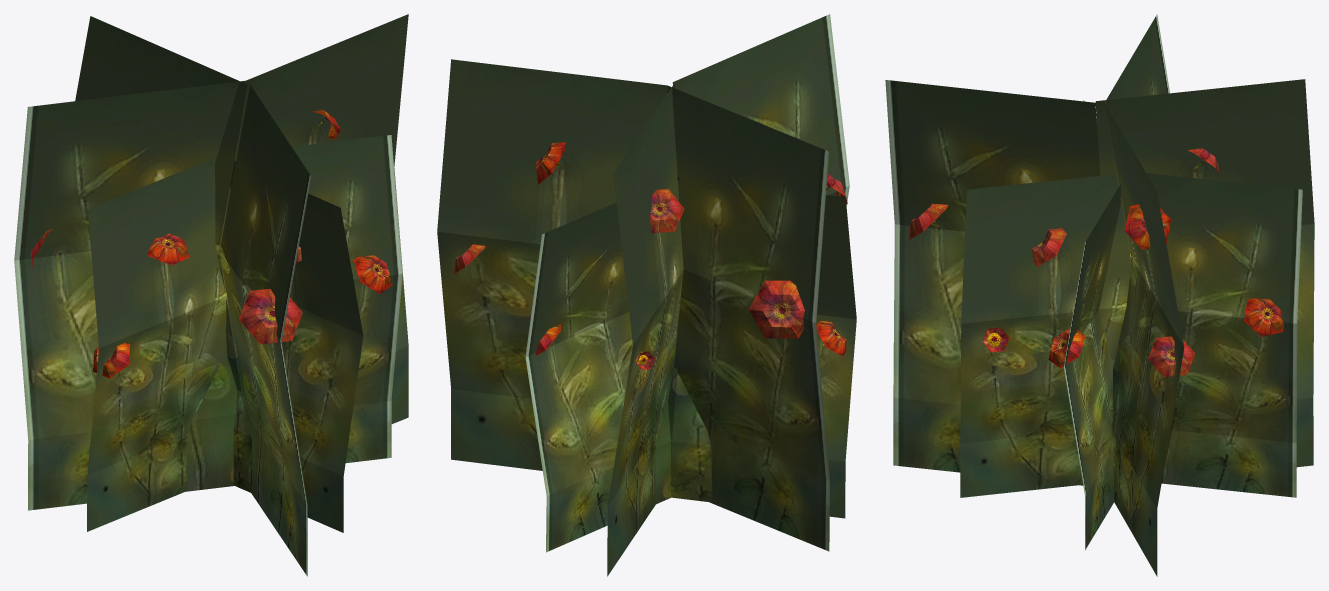
Rendered from bg_anh_foliage_te_f01_sm_old.FBX.
The picture shows the model from 3 angles, left to right: view 1: azimuth 30°, elevation 25°; view 2: azimuth 150°, elevation 25°; view 3: azimuth 270°, elevation 25°; orthographic projection. The views are drawn at different scales.
Parts seen in each view (by area): view 1: bg_anh_foliage_te_f01_sm_old; view 2: bg_anh_foliage_te_f01_sm_old; view 3: bg_anh_foliage_te_f01_sm_old.
Part boxes in pixels (box(x1,y1,x2,y2)): bg_anh_foliage_te_f01_sm_old: box(14, 14, 408, 576); bg_anh_foliage_te_f01_sm_old: box(437, 14, 856, 576); bg_anh_foliage_te_f01_sm_old: box(885, 14, 1314, 576).
Bounding box in the file's own units: 76.93 × 77.85 × 78.53.
